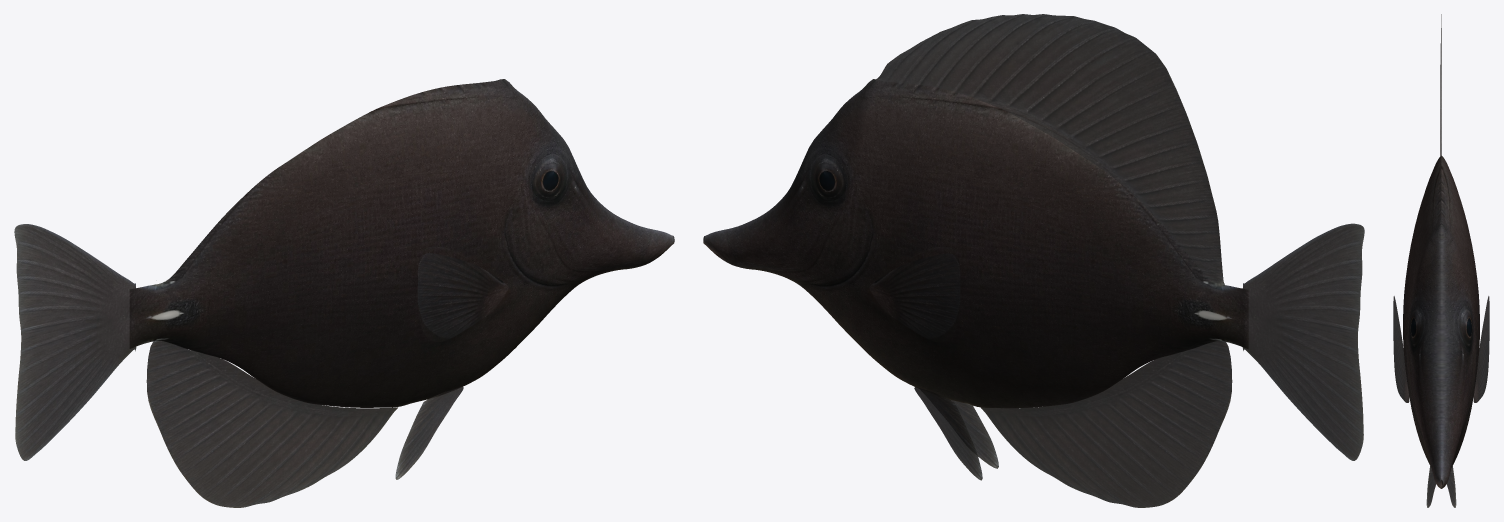
File: rostratum-CVSXjLYp.glb
3 views of the same model, side by side, from view 1: azimuth 30°, elevation 25°; view 2: azimuth 150°, elevation 25°; view 3: azimuth 270°, elevation 25° (orthographic). The views are drawn at different scales.
Parts seen in each view (by area): view 1: rostratum__body, rostratum__fin_2, rostratum__fin_0, rostratum__pectoral_1, rostratum__gill_1, rostratum__pelvic_1, rostratum__eye_1; view 2: rostratum__body, rostratum__fin_1, rostratum__fin_2, rostratum__fin_0, rostratum__pectoral_-1, rostratum__gill_-1, rostratum__pelvic_-1, rostratum__pelvic_1, rostratum__eye_-1; view 3: rostratum__body, rostratum__pectoral_1, rostratum__pectoral_-1, rostratum__fin_1, rostratum__gill_1, rostratum__gill_-1, rostratum__eye_1, rostratum__eye_-1, rostratum__pelvic_1, rostratum__pelvic_-1.
Part boxes in pixels (box(x1,y1,x2,y2)): rostratum__body: box(135, 79, 674, 407); rostratum__fin_2: box(146, 340, 397, 507); rostratum__fin_0: box(14, 224, 136, 460); rostratum__pectoral_1: box(417, 253, 510, 341); rostratum__gill_1: box(510, 199, 560, 286); rostratum__pelvic_1: box(395, 386, 463, 479); rostratum__eye_1: box(534, 160, 562, 198); rostratum__body: box(703, 79, 1248, 408); rostratum__fin_1: box(876, 14, 1224, 284); rostratum__fin_2: box(980, 341, 1232, 507); rostratum__fin_0: box(1242, 223, 1364, 460); rostratum__pectoral_-1: box(867, 253, 960, 342); rostratum__gill_-1: box(817, 199, 867, 286); rostratum__pelvic_-1: box(914, 387, 982, 480); rostratum__pelvic_1: box(951, 400, 998, 468); rostratum__eye_-1: box(815, 160, 843, 198); rostratum__body: box(1403, 155, 1479, 488); rostratum__pectoral_1: box(1393, 296, 1409, 402); rostratum__pectoral_-1: box(1473, 296, 1489, 402); rostratum__fin_1: box(1440, 14, 1441, 224); rostratum__gill_1: box(1406, 323, 1414, 409); rostratum__gill_-1: box(1468, 323, 1476, 409); rostratum__eye_1: box(1410, 309, 1420, 342); rostratum__eye_-1: box(1462, 309, 1472, 342); rostratum__pelvic_1: box(1426, 466, 1436, 507); rostratum__pelvic_-1: box(1446, 466, 1456, 507).
Size of the model in its own units: 1.22 by 0.8444 by 0.1694.
5 materials, 5 textured.
